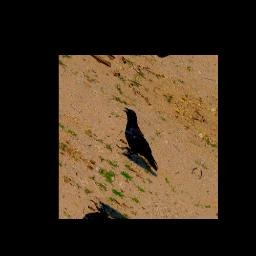Crow: (106, 105, 174, 175)
